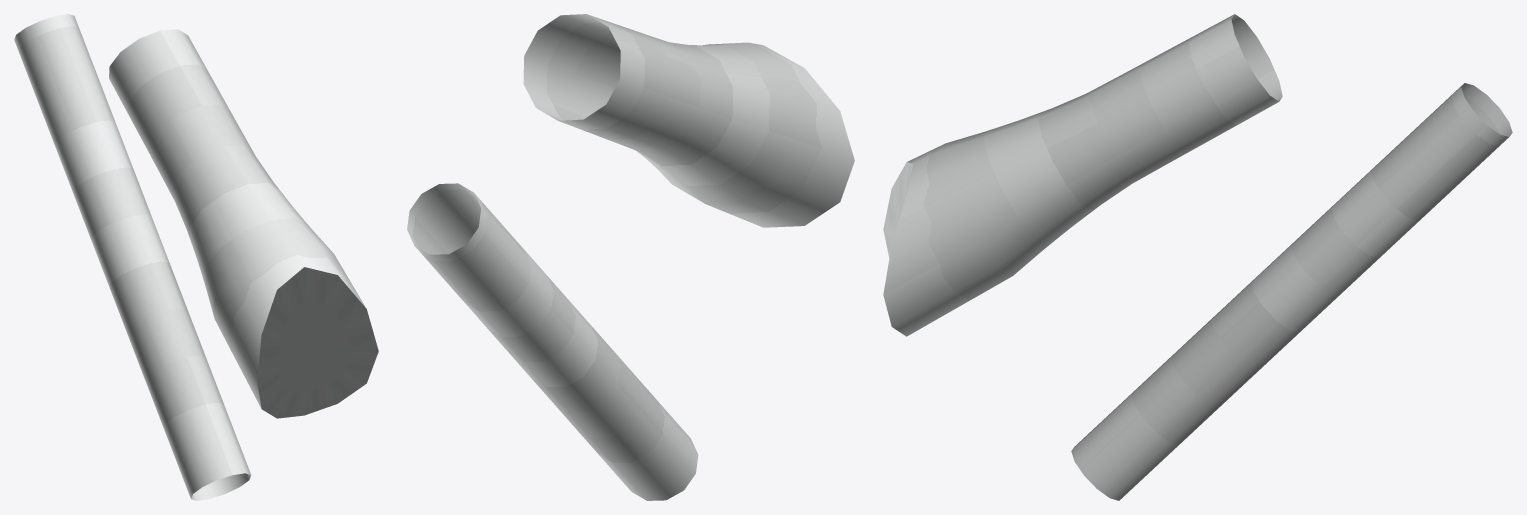
The model's file is luminairearm_truss8ftstraight_c0_thin.obj.
3 renders of one model, left to right at view 1: azimuth 30°, elevation 25°; view 2: azimuth 150°, elevation 25°; view 3: azimuth 270°, elevation 25°, orthographic. The views are drawn at different scales.
Parts seen in each view (by area): view 1: luminairearm_truss8ftstraight_c0_thin; view 2: luminairearm_truss8ftstraight_c0_thin; view 3: luminairearm_truss8ftstraight_c0_thin.
Boxes of the visible parts, x1=… form: luminairearm_truss8ftstraight_c0_thin: x1=14, y1=14, x2=378, y2=500; luminairearm_truss8ftstraight_c0_thin: x1=407, y1=14, x2=854, y2=500; luminairearm_truss8ftstraight_c0_thin: x1=883, y1=14, x2=1512, y2=500.
Size of the model in its own units: 0.3375 by 1.15 by 1.37.
